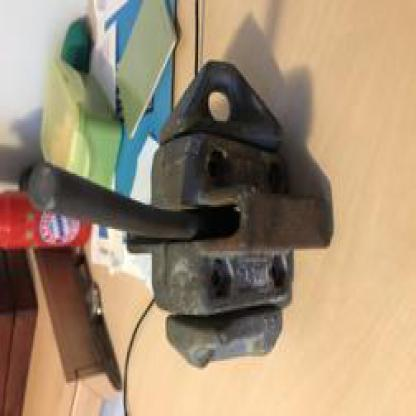Twistlock: (25, 51, 341, 380)
